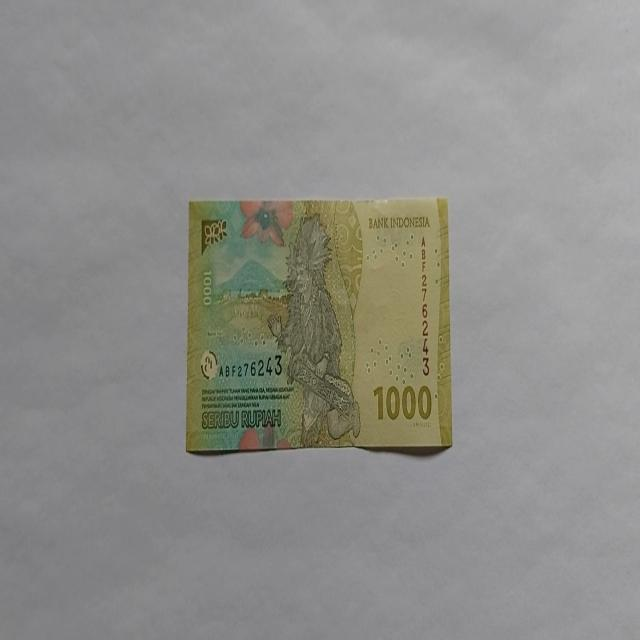seribu rupiah kertas: (185, 195, 453, 456)
